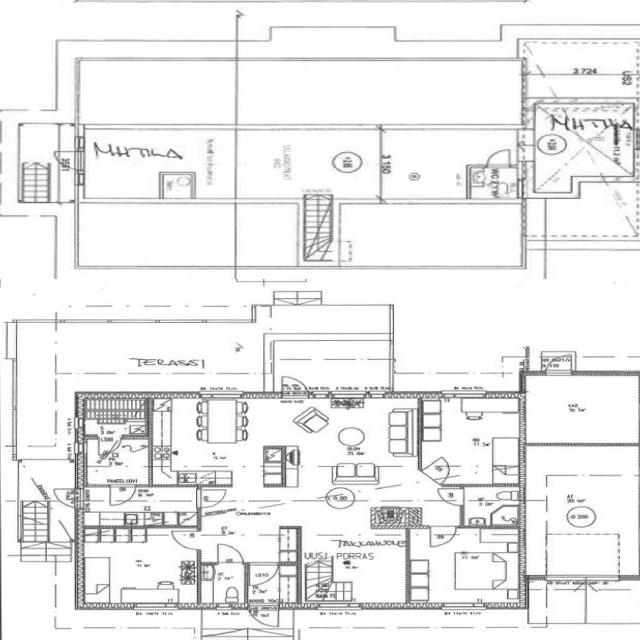door: (421, 456, 460, 485), (250, 603, 279, 630), (48, 151, 85, 171), (282, 372, 309, 398), (49, 489, 85, 508), (250, 562, 278, 586), (546, 352, 572, 375), (110, 484, 136, 506), (172, 531, 202, 550), (431, 525, 456, 547), (218, 544, 244, 565), (98, 435, 122, 456), (198, 490, 226, 508), (438, 488, 465, 506), (488, 148, 510, 168)
